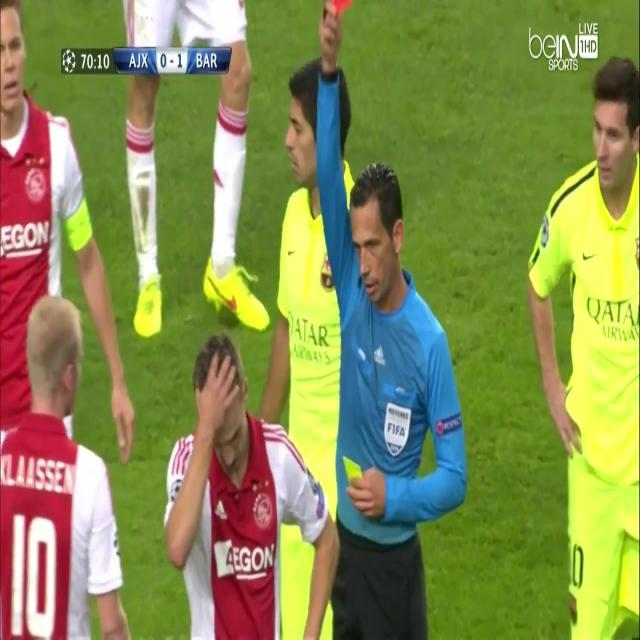Player: (527, 53, 640, 639), (0, 3, 140, 463), (259, 57, 357, 640), (164, 333, 340, 640), (123, 0, 273, 334), (0, 294, 136, 638)
Referee: (315, 0, 474, 640)
